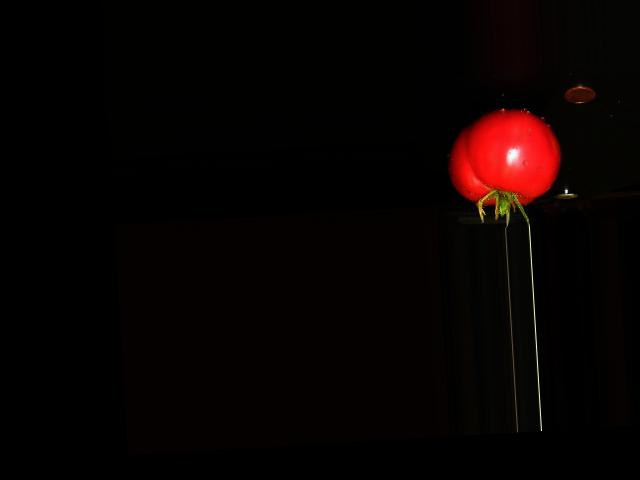tomato: (443, 104, 563, 209)
